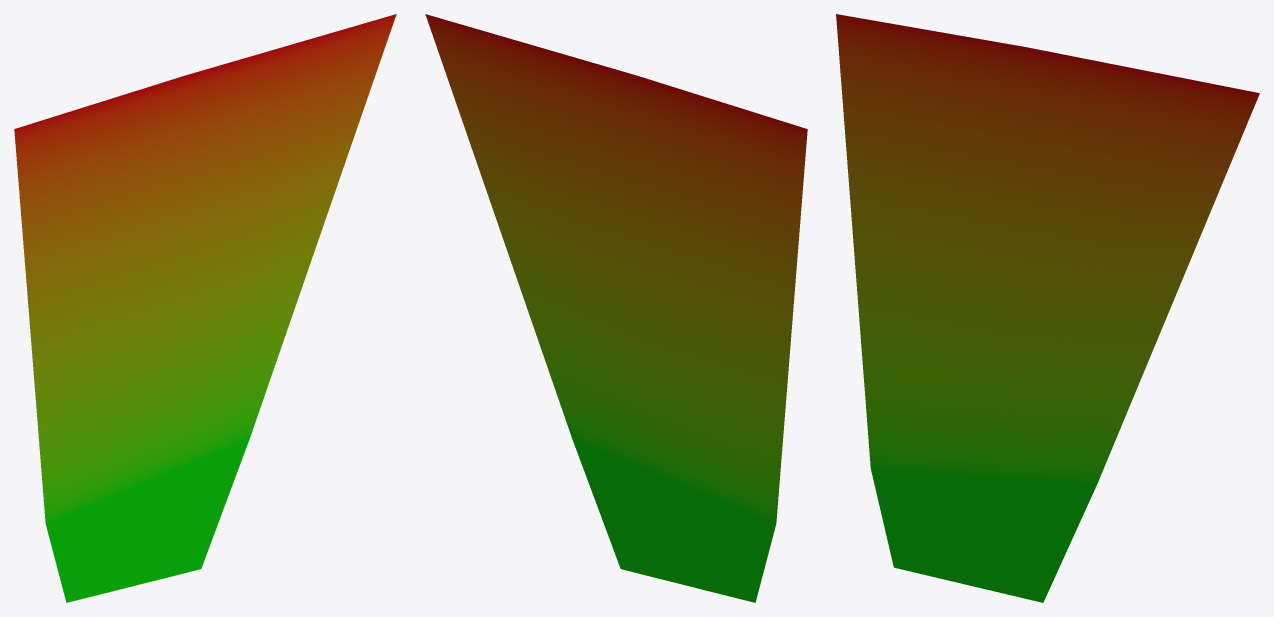
Rendered from Thatching Grass_LOD4_Var5_uddmcgbia.fbx.
The picture shows the model from 3 angles, left to right: view 1: azimuth 30°, elevation 25°; view 2: azimuth 150°, elevation 25°; view 3: azimuth 330°, elevation 25°; orthographic projection. The views are drawn at different scales.
Visible parts, largest first — view 1: _02b6_Var5_LOD4; view 2: _02b6_Var5_LOD4; view 3: _02b6_Var5_LOD4.
Part boxes in pixels (<box>): _02b6_Var5_LOD4: <box>14,14,396,602</box>; _02b6_Var5_LOD4: <box>425,14,807,602</box>; _02b6_Var5_LOD4: <box>836,14,1259,602</box>.
Size of the model in its own units: 24.95 by 31.7 by 2.32e-06.
